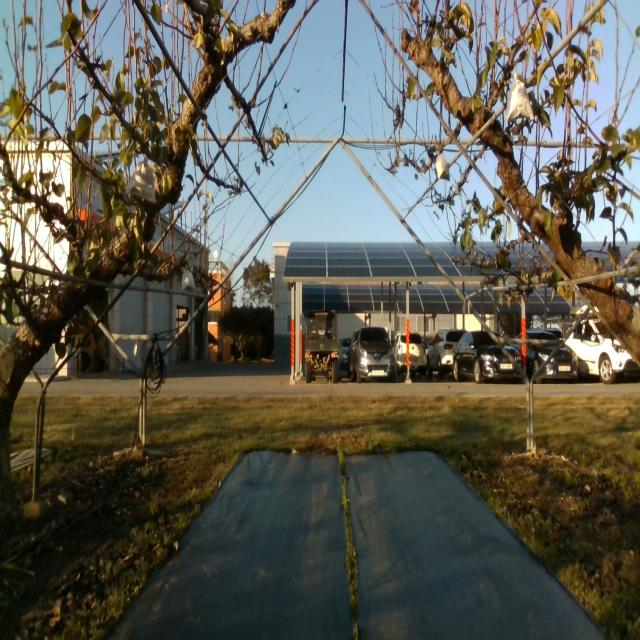pearbags: (505, 72, 535, 122), (126, 155, 155, 204), (436, 151, 450, 181), (182, 265, 196, 292)
